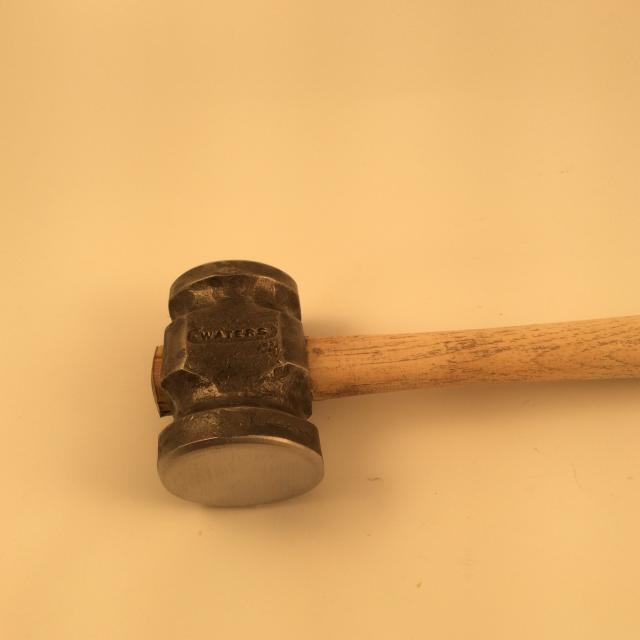hammer: (144, 250, 640, 514)
